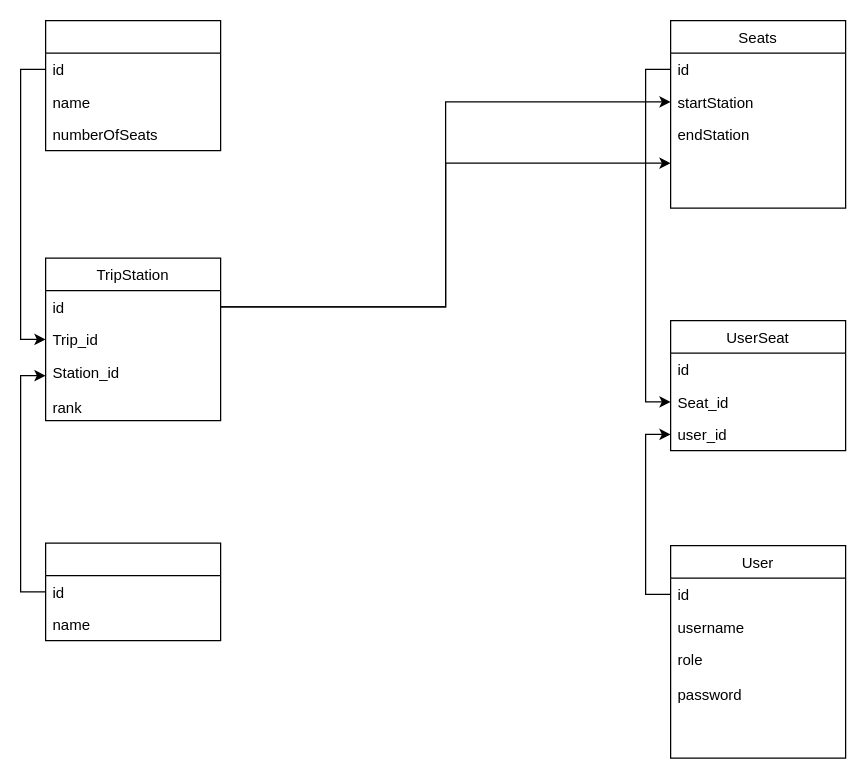
Image size: 866x779. Some labels were removed from this diagram. Here are the shapes that lost their labels. From the top down, the box of each, then its label:
(44, 19, 221, 151): Trip
(44, 542, 221, 641): Station
